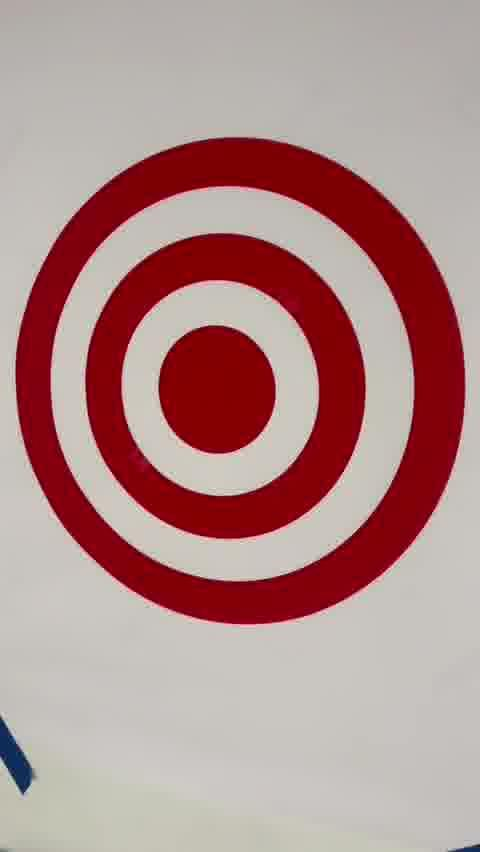target_red: (18, 137, 466, 620)
